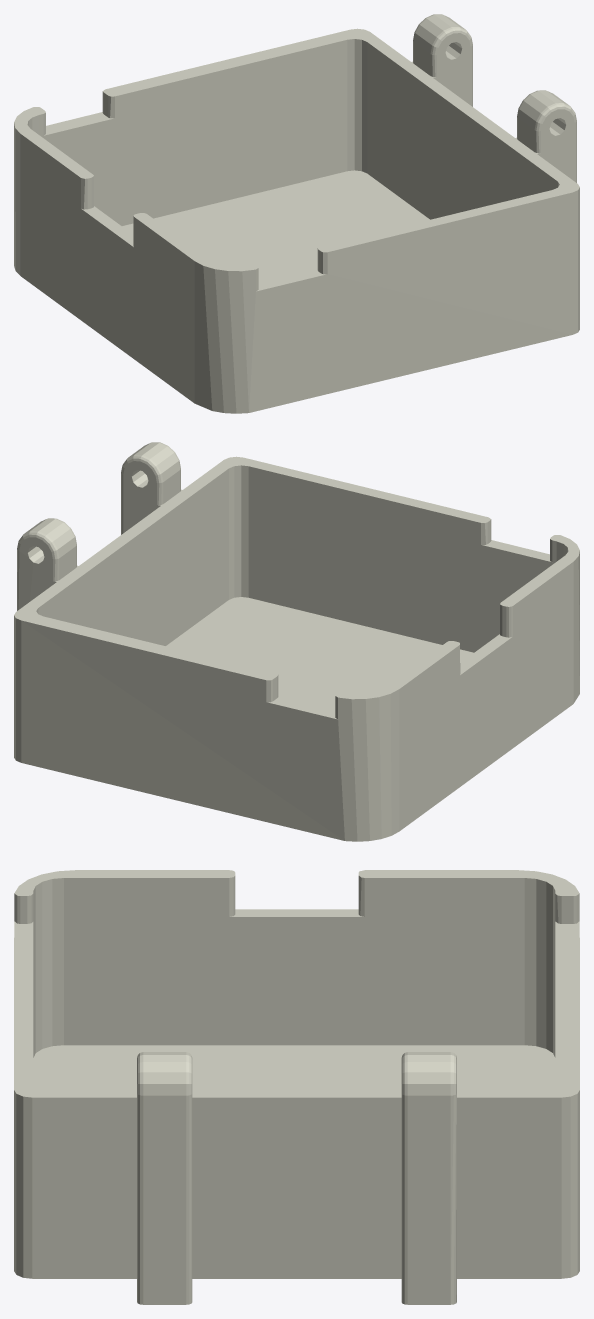
Rendered from 2_Detail.fbx.
The picture shows the model from 3 angles, top to bottom: view 1: azimuth 30°, elevation 25°; view 2: azimuth 150°, elevation 25°; view 3: azimuth 270°, elevation 25°; orthographic projection. The views are drawn at different scales.
Visible parts, largest first — view 1: 2_Detail; view 2: 2_Detail; view 3: 2_Detail.
Boxes of the visible parts, box(x1,y1,x2,y2) form: 2_Detail: box(14, 14, 579, 413); 2_Detail: box(14, 442, 579, 841); 2_Detail: box(14, 870, 579, 1304).
Size of the model in its own units: 9750 by 4250 by 9200.
Materials: 2 (2 with a texture image).
